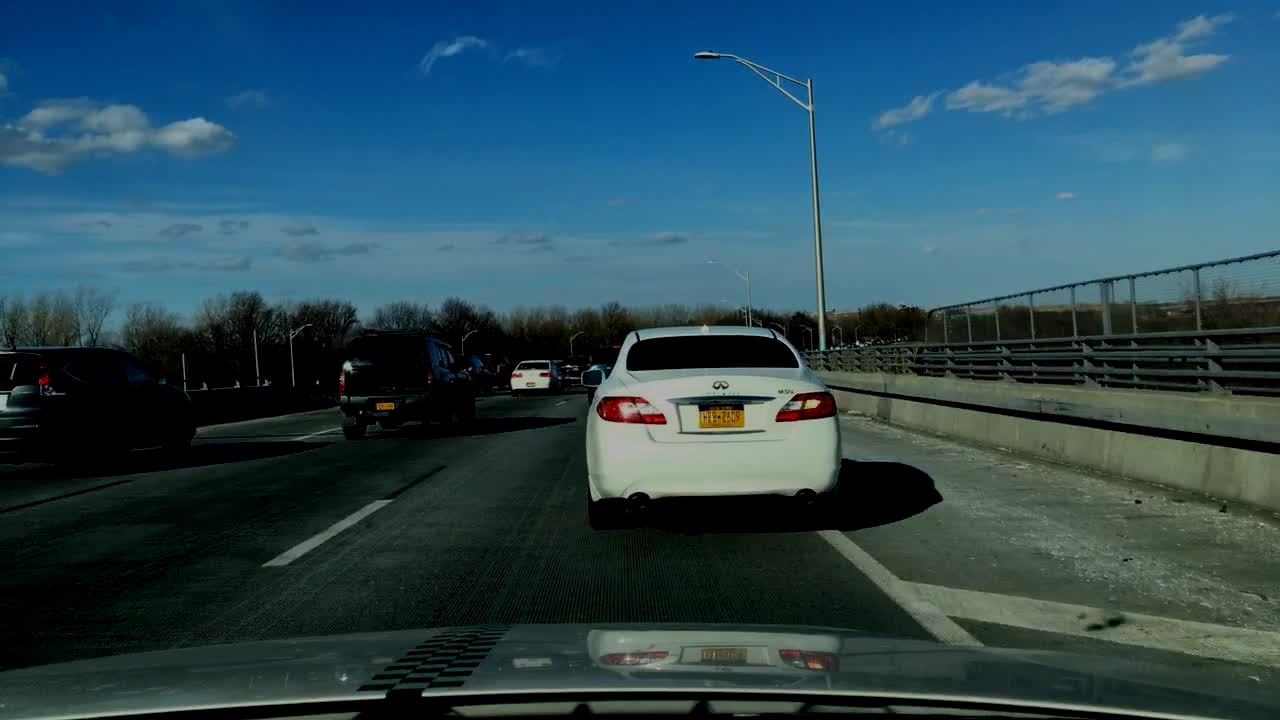Infiniti: (705, 376, 736, 399)
